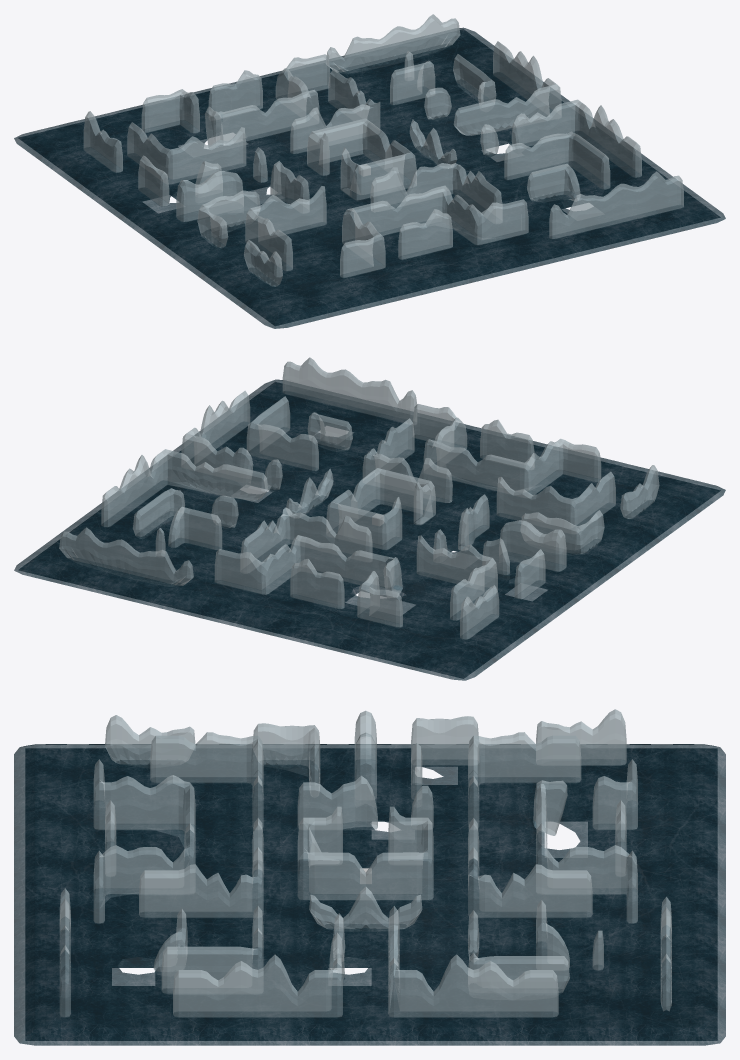
File: Ice_labyrinth1.1.7blend.fbx
The picture shows the model from 3 angles, top to bottom: view 1: azimuth 30°, elevation 25°; view 2: azimuth 150°, elevation 25°; view 3: azimuth 270°, elevation 25°; orthographic projection. The views are drawn at different scales.
Parts seen in each view (by area): view 1: Floor, Walls, Floor_001; view 2: Floor, Walls, Floor_001; view 3: Floor, Floor_001, Walls.
Boxes of the visible parts, x1,y1,x2,y2 form: Floor: (14, 27, 725, 328); Walls: (83, 14, 683, 286); Floor_001: (18, 29, 719, 325); Floor: (14, 379, 725, 680); Walls: (59, 357, 659, 639); Floor_001: (19, 382, 720, 678); Floor: (14, 744, 725, 1045); Floor_001: (25, 748, 717, 1040); Walls: (59, 709, 671, 1017).
Bounding box in the file's own units: 117 × 12.79 × 117.
